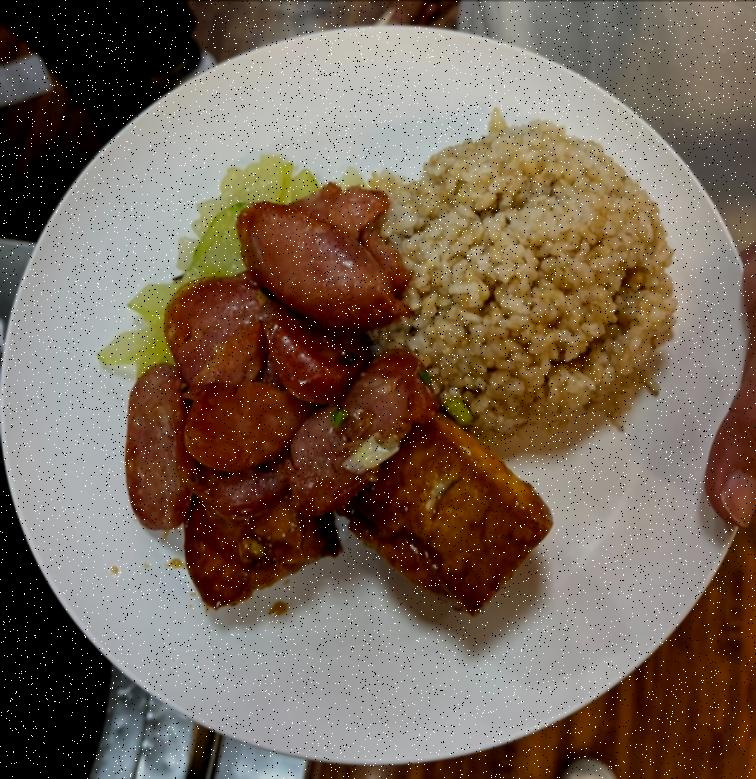brown rice: (364, 112, 680, 426)
plate: (0, 17, 749, 770)
sausage: (128, 182, 429, 522)
side dish: (183, 404, 558, 618), (98, 152, 329, 378)
